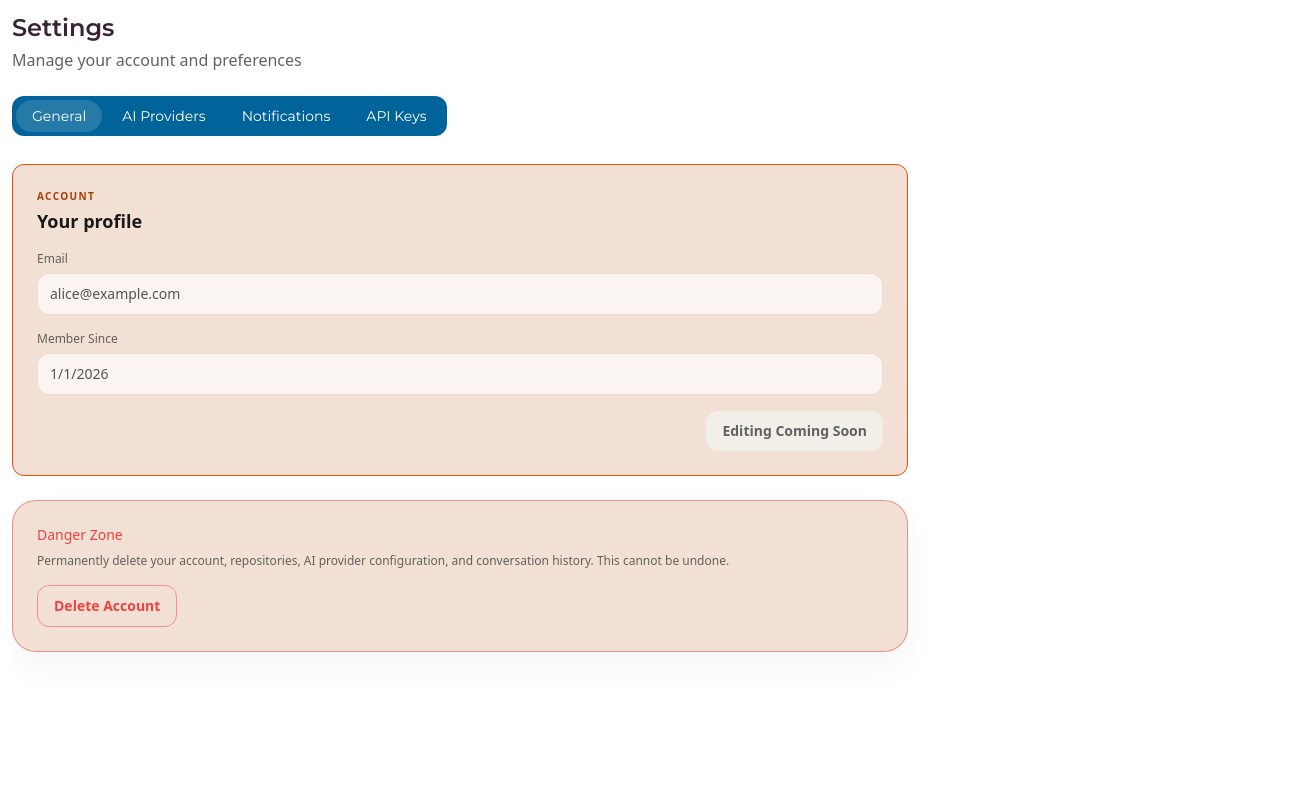
Test: SettingsPage account deletion › cancel collapses the panel and clears the entered fields
Click the button "Delete Account" at (107, 606), box [37,585,177,627]
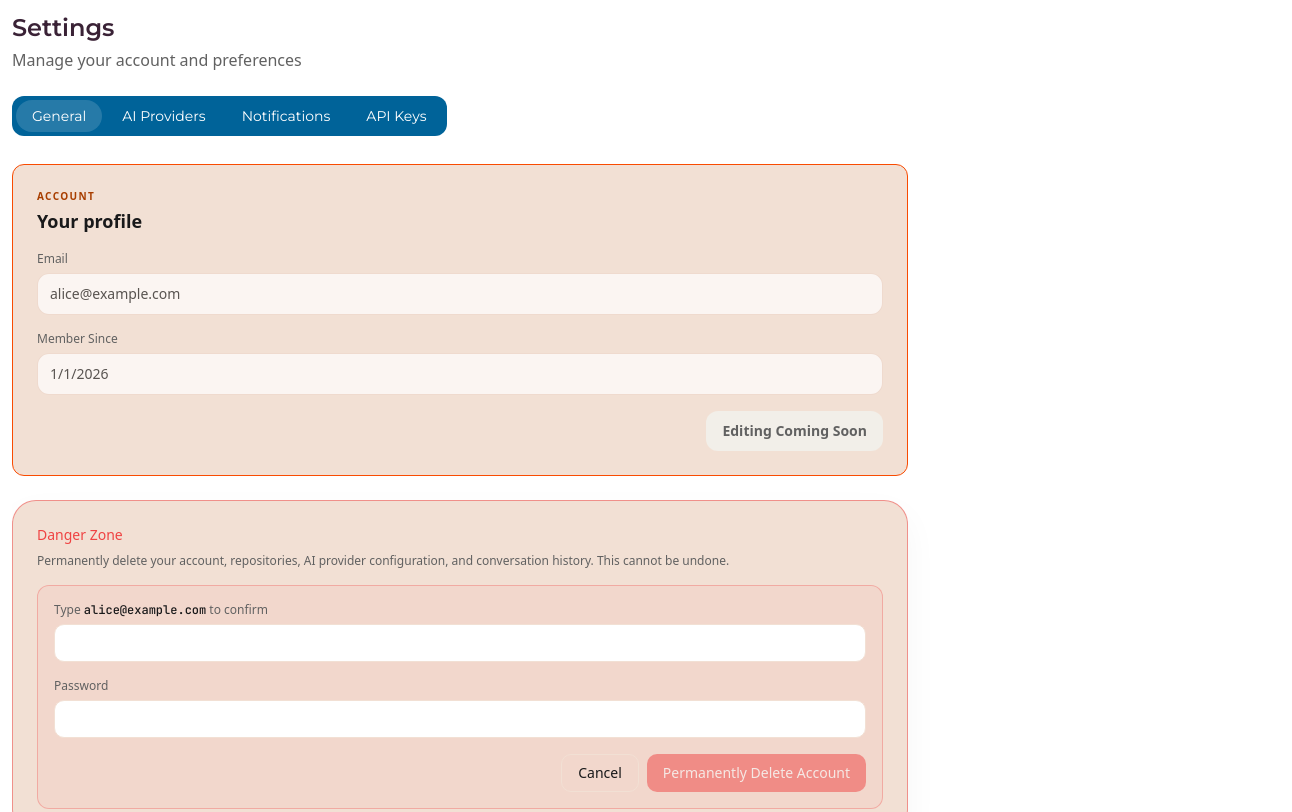
Type "some-password" into the password field labelled "Password" at (460, 719), box [54,700,866,738]
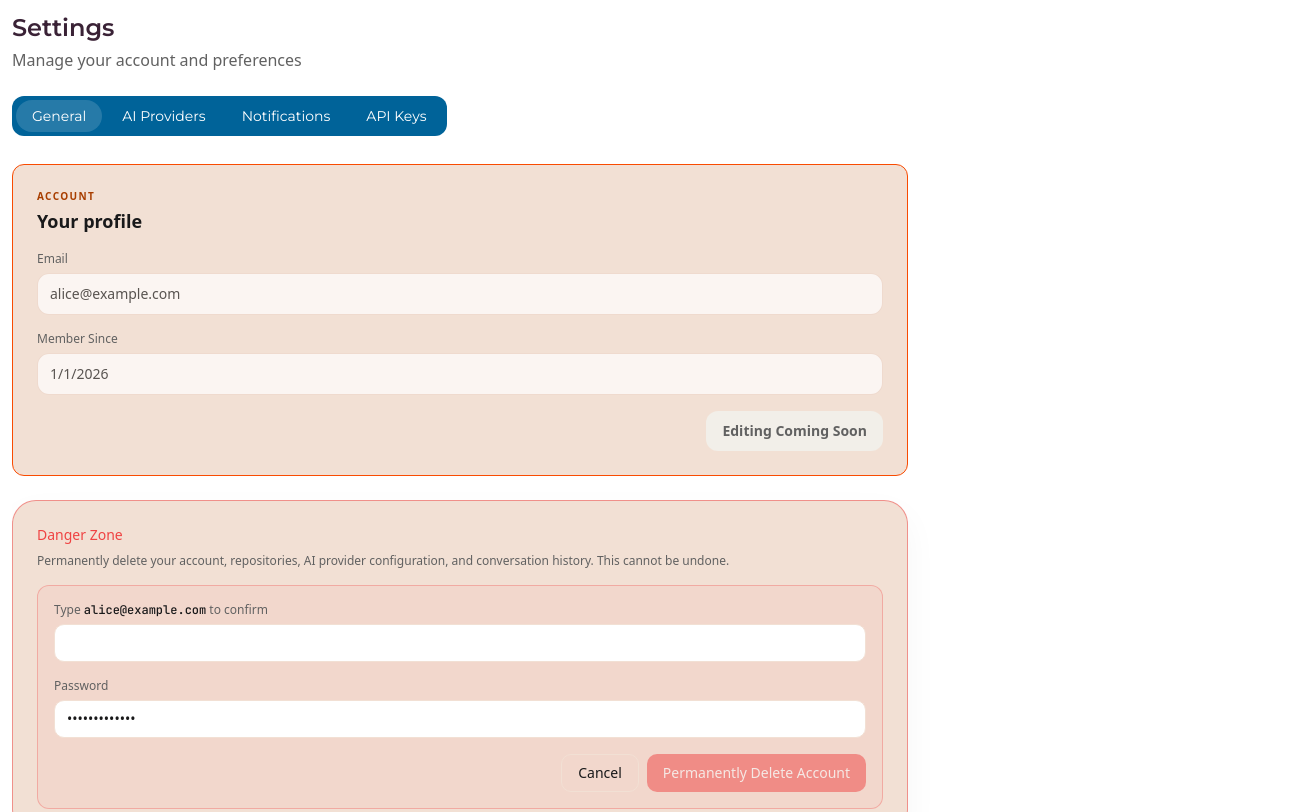
Click the button "Cancel" at (600, 773), box [561,754,639,792]
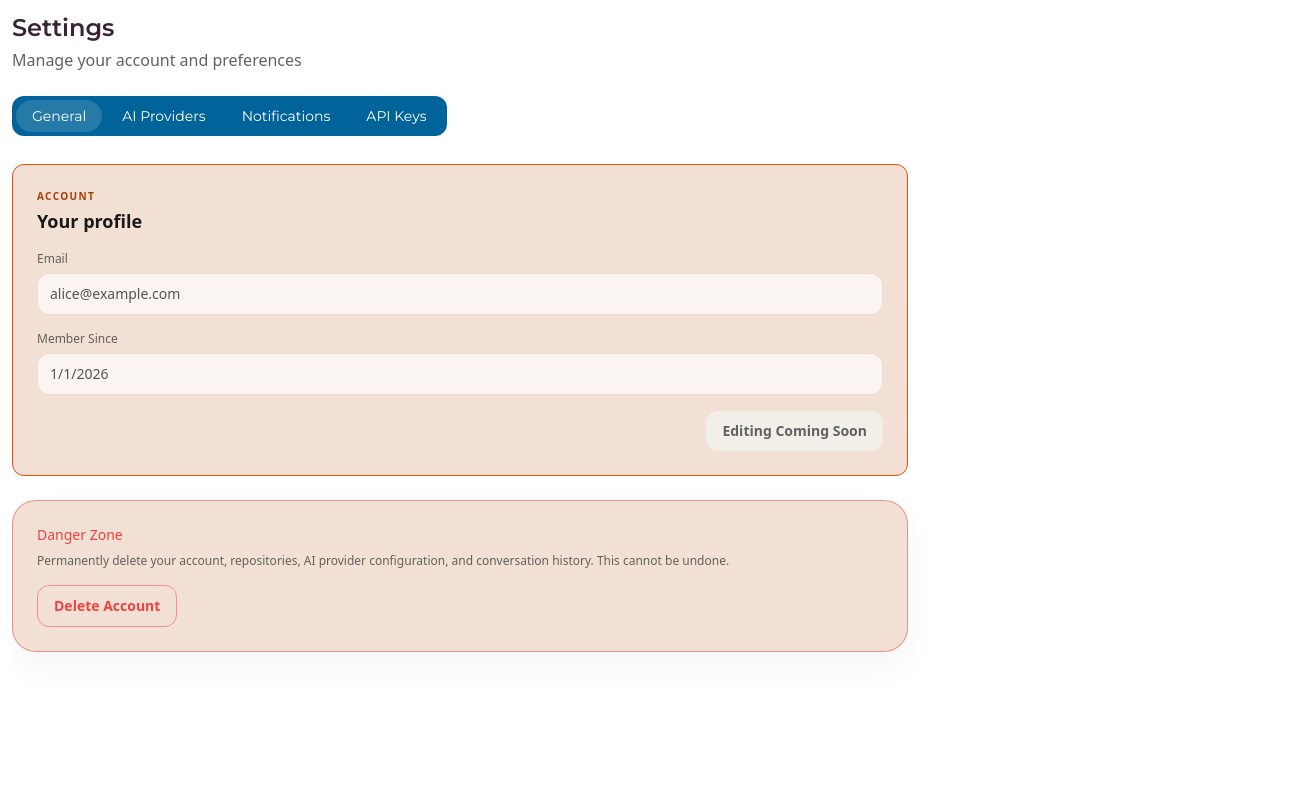
Expected: the button "Delete Account" is shown, [37,585,177,627]
Now the label labelled "Password" is gone
